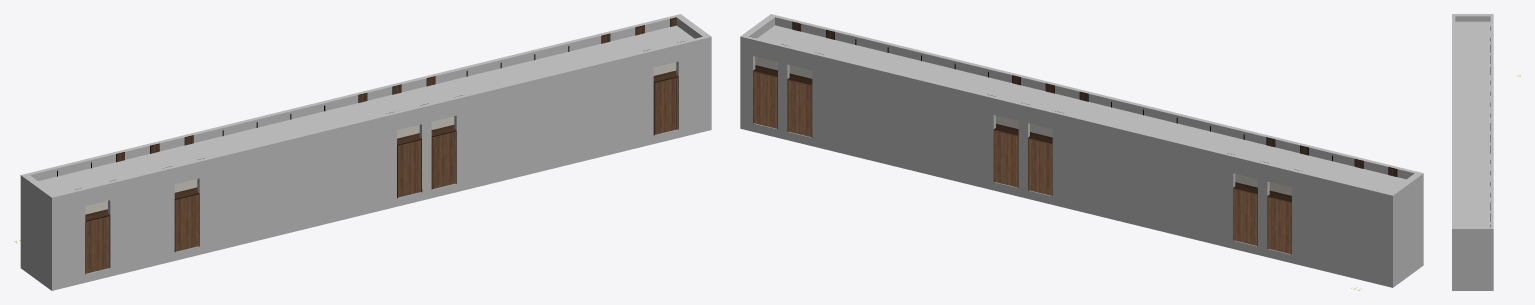
The model's file is Corridor1 1.fbx.
3 renders of one model, left to right at view 1: azimuth 30°, elevation 25°; view 2: azimuth 150°, elevation 25°; view 3: azimuth 270°, elevation 25°, orthographic. The views are drawn at different scales.
Parts seen in each view (by area): view 1: Line196, Line8962, Line197, Box16637, Box16626, Box16648, Box16644, Box16632, Box16598, Line8961, Box16592; view 2: Line196, Line8962, Line197, Box16609, Box16612, Box16606, Box256, Box16600, Box16603, Box16598, Box16592, Line8961; view 3: Line8962, Line196, Line197.
Boxes of the visible parts, <box> form: Line196: <box>20,14,711,282</box>; Line8962: <box>20,25,711,213</box>; Line197: <box>20,121,711,290</box>; Box16637: <box>175,194,198,251</box>; Box16626: <box>432,131,455,189</box>; Box16648: <box>654,77,677,134</box>; Box16644: <box>86,216,109,273</box>; Box16632: <box>398,140,420,197</box>; Box16598: <box>85,62,676,214</box>; Line8961: <box>85,62,676,210</box>; Box16592: <box>85,70,676,218</box>; Line196: <box>740,14,1423,279</box>; Line8962: <box>740,25,1423,211</box>; Line197: <box>740,120,1423,287</box>; Box16609: <box>1268,197,1291,254</box>; Box16612: <box>1234,189,1257,245</box>; Box16606: <box>788,80,811,136</box>; Box256: <box>1029,139,1051,195</box>; Box16600: <box>995,130,1017,187</box>; Box16603: <box>754,72,776,128</box>; Box16598: <box>755,57,1291,195</box>; Box16592: <box>755,65,1291,199</box>; Line8961: <box>755,56,1291,191</box>; Line8962: <box>1452,21,1493,239</box>; Line196: <box>1452,14,1493,285</box>; Line197: <box>1452,285,1493,290</box>.
Bounding box in the file's own units: 24465 × 3300 × 3310.
